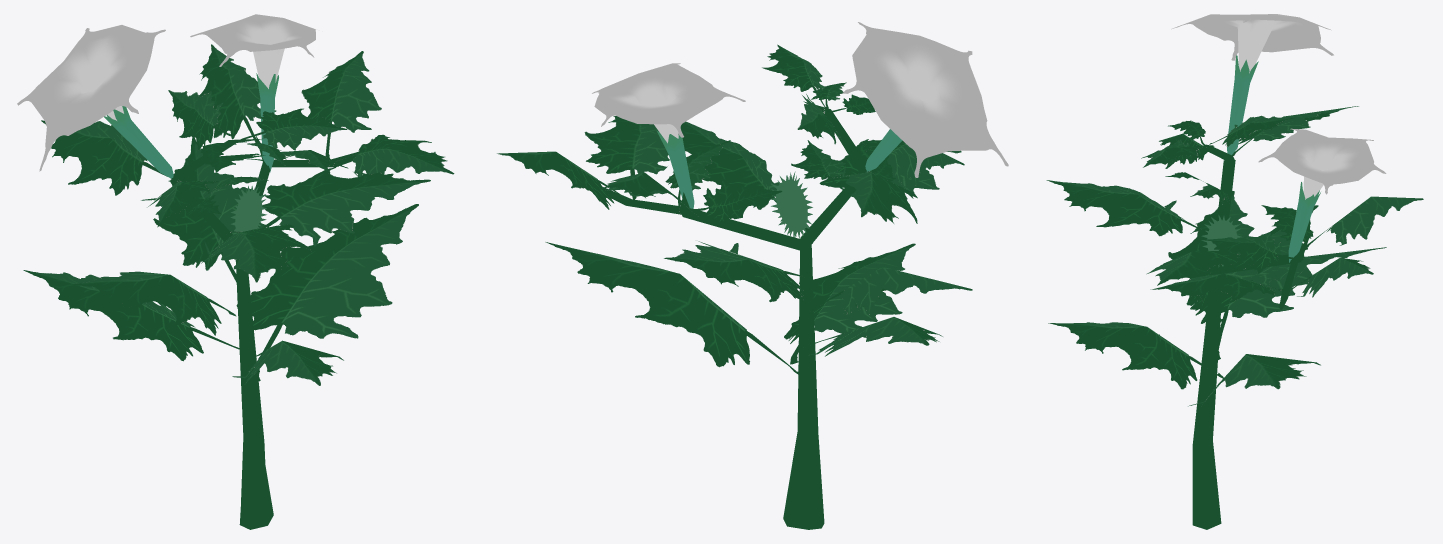
Rendered from PT_Thornapple_02.fbx.
3 views of the same model, side by side, from view 1: azimuth 30°, elevation 25°; view 2: azimuth 150°, elevation 25°; view 3: azimuth 270°, elevation 25° (orthographic). The views are drawn at different scales.
Parts seen in each view (by area): view 1: PT_Thornapple_02_LOD0; view 2: PT_Thornapple_02_LOD0; view 3: PT_Thornapple_02_LOD0.
Boxes of the visible parts, left/top/right/bottom form: PT_Thornapple_02_LOD0: left=17, top=14, right=454, bottom=529; PT_Thornapple_02_LOD0: left=497, top=22, right=1008, bottom=529; PT_Thornapple_02_LOD0: left=1046, top=14, right=1423, bottom=529.
Size of what is drawn, in the model's own units: 89.6 by 103 by 77.54.
